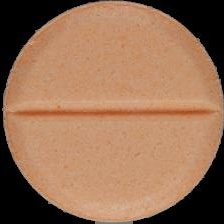54868-0091: (0, 0, 224, 224)
